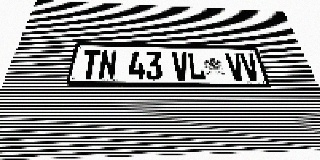3: (146, 51, 162, 80)
4: (128, 51, 145, 80)
L: (187, 52, 206, 80)
N: (98, 50, 117, 80)
T: (79, 50, 101, 80)
V: (239, 53, 261, 81), (225, 53, 246, 81), (172, 52, 190, 80)
